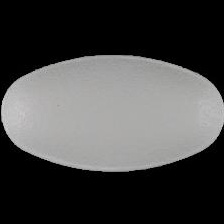68258-6043: (0, 0, 224, 224)
